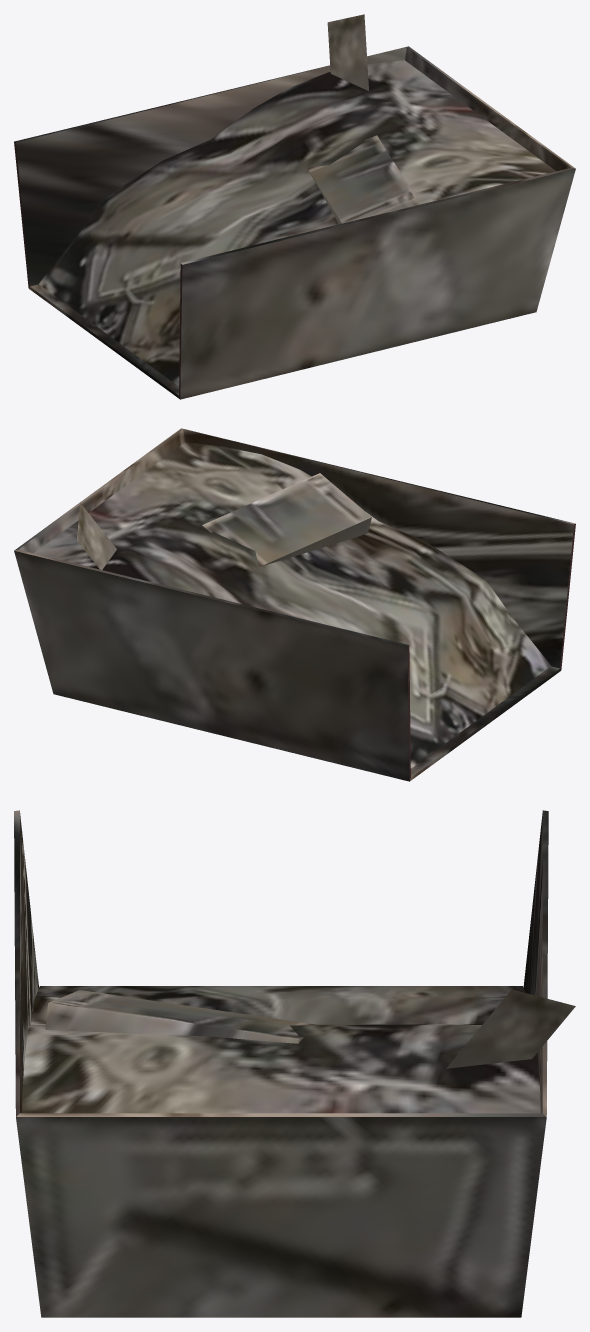
File: radiators_dumpster.glb
3 views of the same model, one above another, from view 1: azimuth 30°, elevation 25°; view 2: azimuth 150°, elevation 25°; view 3: azimuth 270°, elevation 25° (orthographic). The views are drawn at different scales.
Parts seen in each view (by area): view 1: MetalCasing, Radiators; view 2: MetalCasing, Radiators; view 3: MetalCasing, Radiators.
Part boxes in pixels (<box>): MetalCasing: <box>14,46,575,399</box>; Radiators: <box>39,14,555,386</box>; MetalCasing: <box>14,428,575,781</box>; Radiators: <box>34,442,550,768</box>; MetalCasing: <box>14,810,548,1317</box>; Radiators: <box>22,986,575,1113</box>.
Bounding box in the file's own units: 17.83 × 8.45 × 13.87.
Materials: 1 (1 with a texture image).
